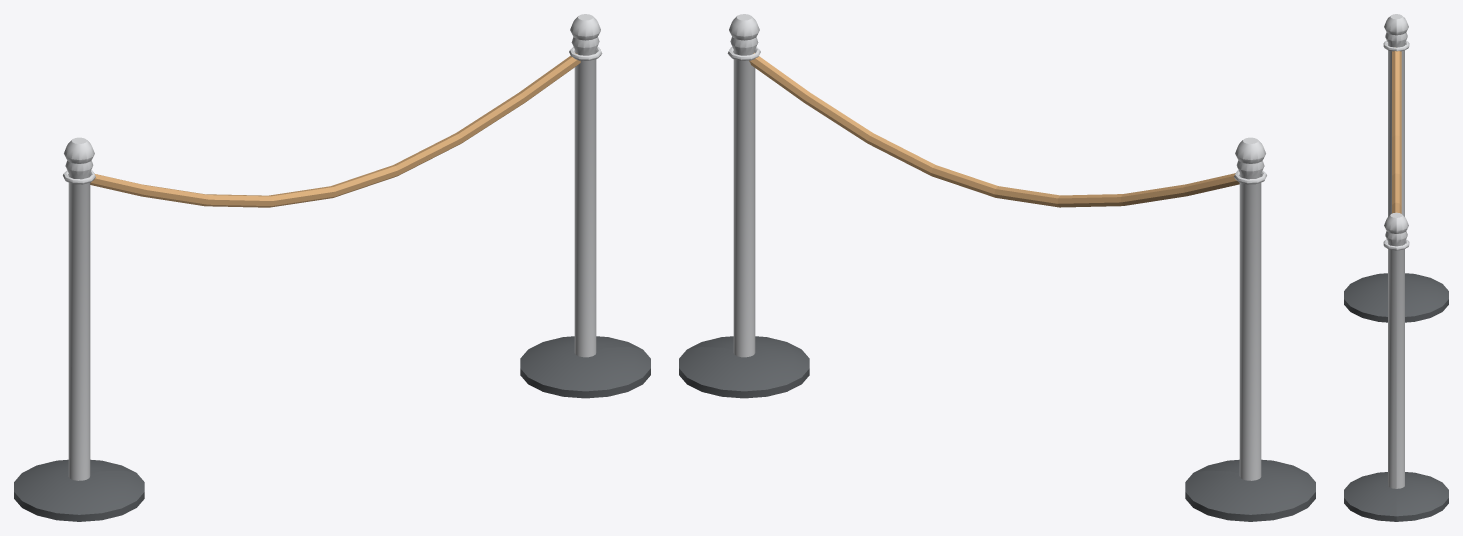
File: bakery-and-cafe-barrier-post-rope-618557c4__22220.glb
3 views of the same model, side by side, from view 1: azimuth 30°, elevation 25°; view 2: azimuth 150°, elevation 25°; view 3: azimuth 270°, elevation 25° (orthographic). The views are drawn at different scales.
Parts seen in each view (by area): view 1: barrier-post-rope; view 2: barrier-post-rope; view 3: barrier-post-rope.
Part boxes in pixels (bbox=[...]): barrier-post-rope: bbox=[14, 14, 650, 521]; barrier-post-rope: bbox=[679, 14, 1315, 521]; barrier-post-rope: bbox=[1344, 14, 1448, 521].
Size of the model in its own units: 1.84 by 1 by 0.3349.
